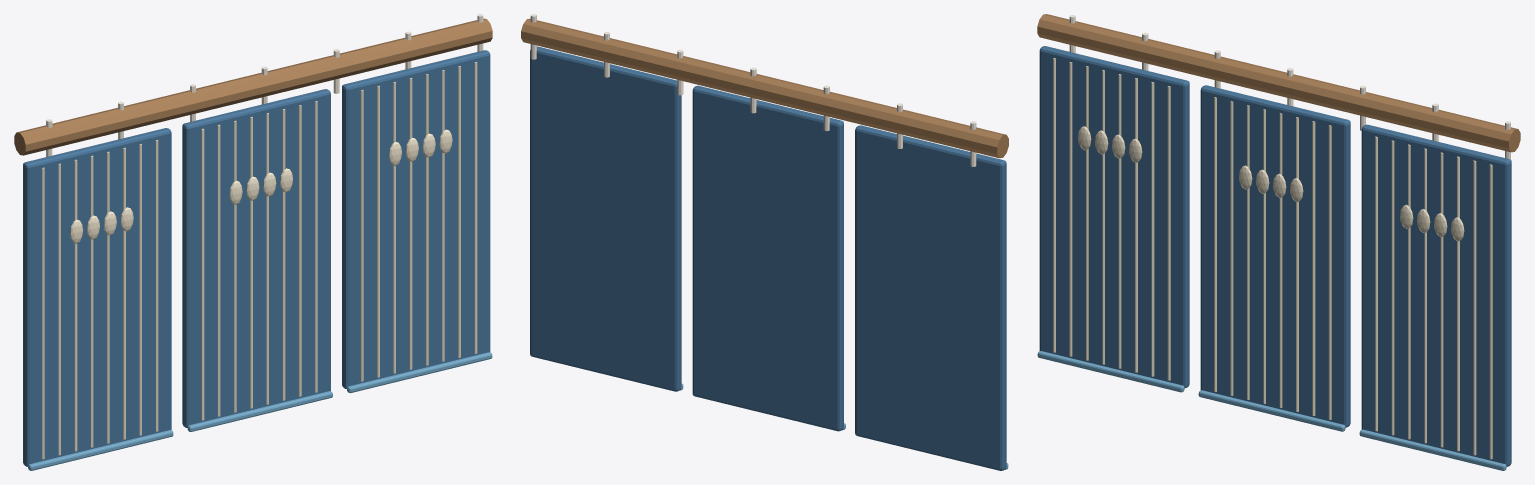
The model's file is home_noren.glb.
3 renders of one model, left to right at view 1: azimuth 30°, elevation 25°; view 2: azimuth 150°, elevation 25°; view 3: azimuth 330°, elevation 25°, orthographic.
Parts seen in each view (by area): view 1: Noren indigo clothcloth.001, Noren indigo clothcloth, Noren indigo clothcloth.002, Noren upper curtain rod, Noren indigo cloth_stitch1.001, Noren indigo cloth_stitch7.001, Noren indigo cloth_stitch2.001, Noren indigo cloth_stitch8, Noren indigo cloth_stitch8.002, Noren indigo cloth_stitch1.002, Noren lower seam.001, Noren lower seam (+19 smaller); view 2: Noren indigo clothcloth.001, Noren indigo clothcloth, Noren indigo clothcloth.002, Noren upper curtain rod; view 3: Noren indigo clothcloth, Noren indigo clothcloth.001, Noren indigo clothcloth.002, Noren upper curtain rod, Noren indigo cloth_stitch2.002, Noren indigo cloth_stitch7.002, Noren indigo cloth_stitch8.002, Noren indigo cloth_stitch2, Noren indigo cloth_stitch2.001, Noren indigo cloth_stitch7, Noren indigo cloth_stitch7.001, Noren indigo cloth_stitch8 (+19 smaller).
Boxes of the visible parts, bbox=[...] form: Noren indigo clothcloth.001: bbox=[182, 89, 330, 427]; Noren indigo clothcloth: bbox=[23, 128, 171, 466]; Noren indigo clothcloth.002: bbox=[342, 50, 490, 388]; Noren upper curtain rod: bbox=[14, 18, 492, 155]; Noren indigo cloth_stitch1.001: bbox=[201, 128, 204, 420]; Noren indigo cloth_stitch7.001: bbox=[298, 105, 301, 396]; Noren indigo cloth_stitch2.001: bbox=[217, 124, 220, 416]; Noren indigo cloth_stitch8: bbox=[155, 140, 158, 431]; Noren indigo cloth_stitch8.002: bbox=[474, 62, 477, 353]; Noren indigo cloth_stitch1.002: bbox=[360, 90, 363, 381]; Noren lower seam.001: bbox=[187, 391, 332, 431]; Noren lower seam: bbox=[28, 430, 173, 470]; Noren indigo clothcloth.001: bbox=[692, 85, 843, 431]; Noren indigo clothcloth: bbox=[855, 125, 1006, 470]; Noren indigo clothcloth.002: bbox=[530, 46, 681, 391]; Noren upper curtain rod: bbox=[521, 18, 1008, 158]; Noren indigo clothcloth: bbox=[1039, 46, 1189, 388]; Noren indigo clothcloth.001: bbox=[1200, 85, 1350, 427]; Noren indigo clothcloth.002: bbox=[1361, 124, 1511, 466]; Noren upper curtain rod: bbox=[1037, 14, 1520, 152]; Noren indigo cloth_stitch2.002: bbox=[1391, 140, 1394, 435]; Noren indigo cloth_stitch7.002: bbox=[1473, 160, 1476, 455]; Noren indigo cloth_stitch8.002: bbox=[1489, 164, 1492, 459]; Noren indigo cloth_stitch2: bbox=[1069, 62, 1072, 356]; Noren indigo cloth_stitch2.001: bbox=[1230, 101, 1233, 395]; Noren indigo cloth_stitch7: bbox=[1151, 82, 1154, 376]; Noren indigo cloth_stitch7.001: bbox=[1312, 121, 1315, 415]; Noren indigo cloth_stitch8: bbox=[1167, 86, 1170, 380].
Bounding box in the file's own units: 1.95 × 1.35 × 0.1085.
